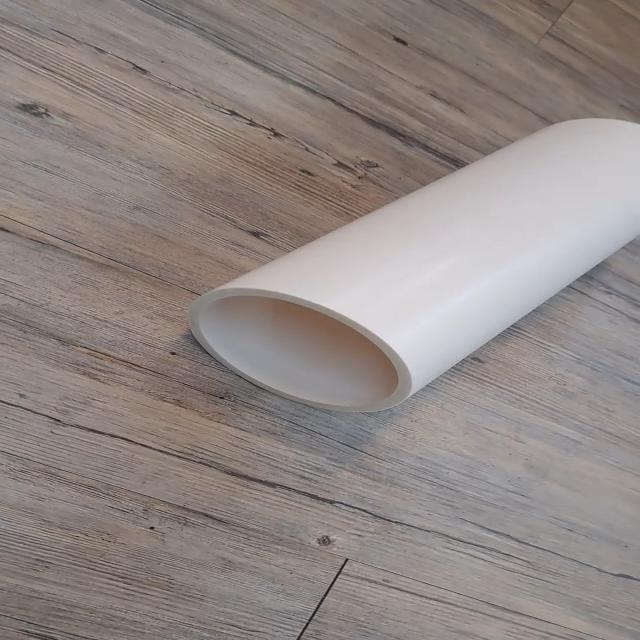CORAL: (187, 103, 640, 440)
